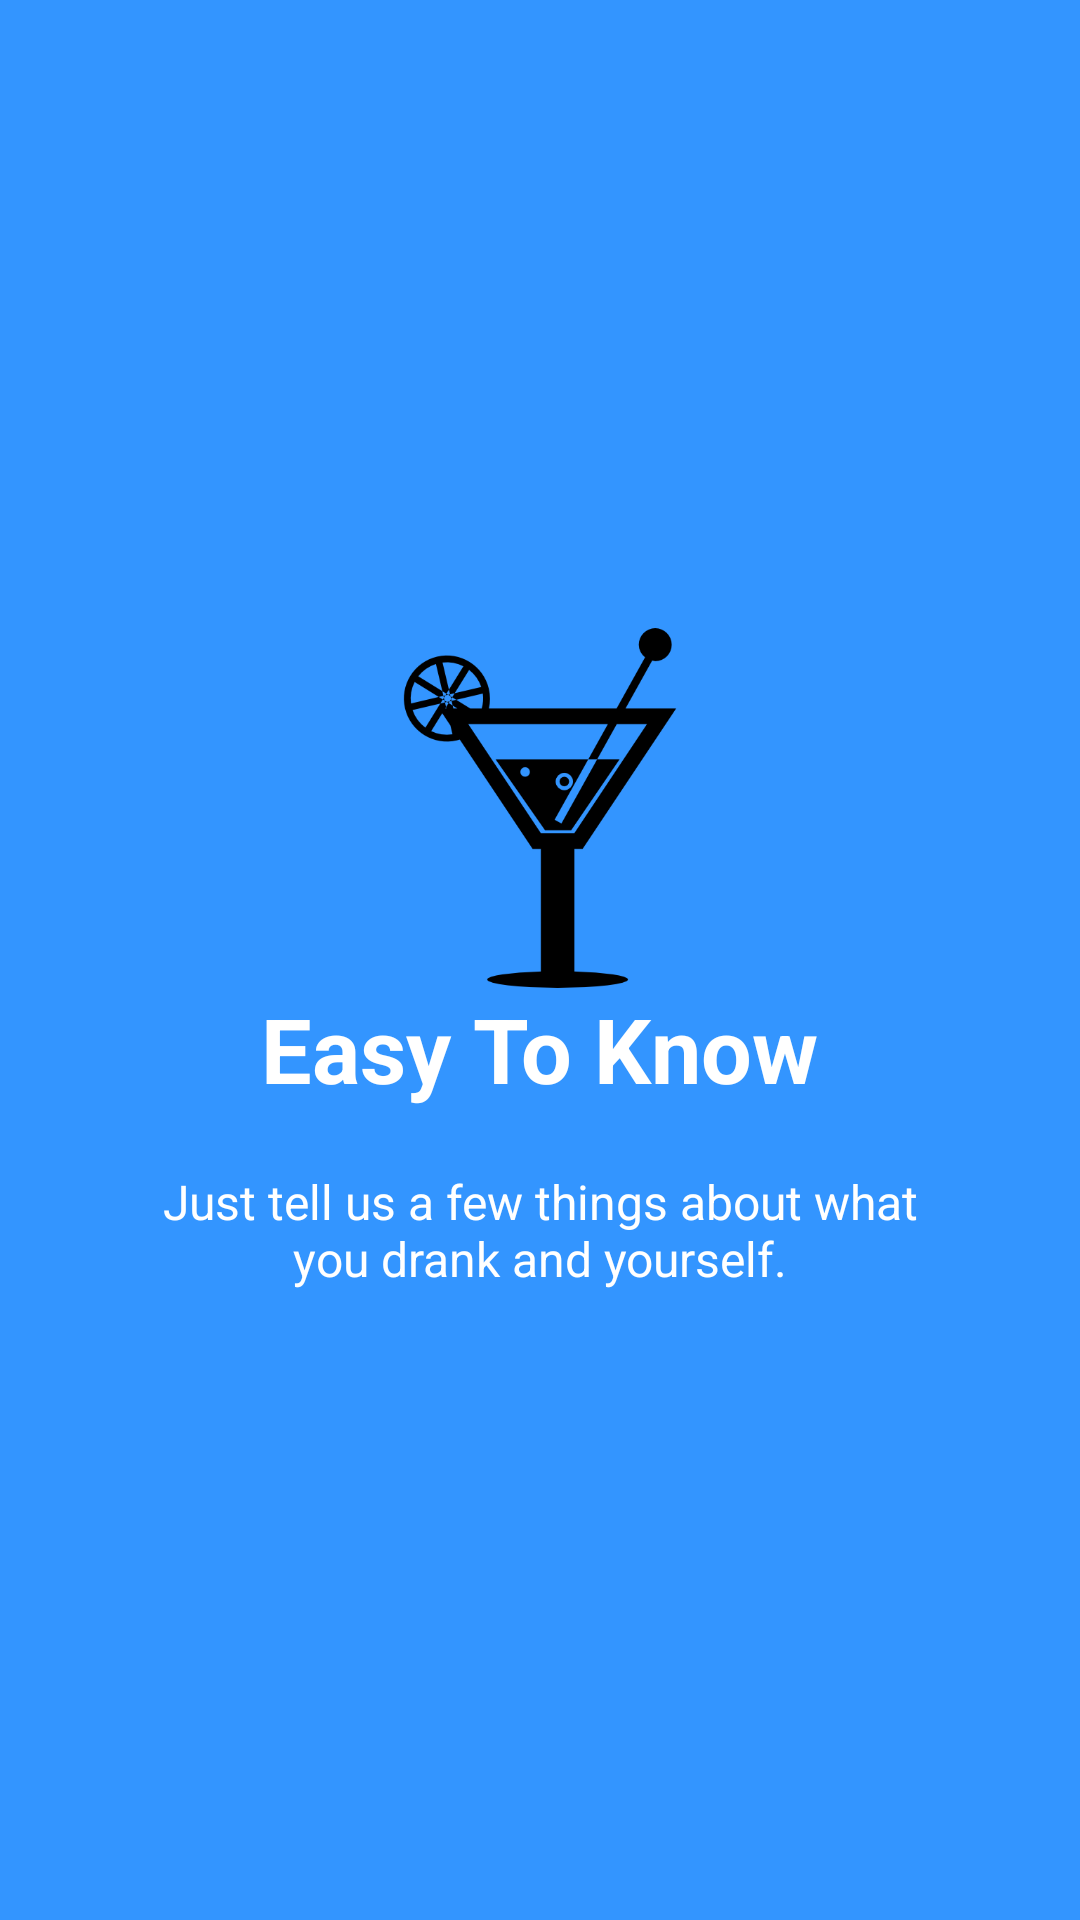

Where icons sit on this 1080px×1920px app screen, as (x1, y1, x2, y2):
alkoholis3: (404, 628, 676, 988)
